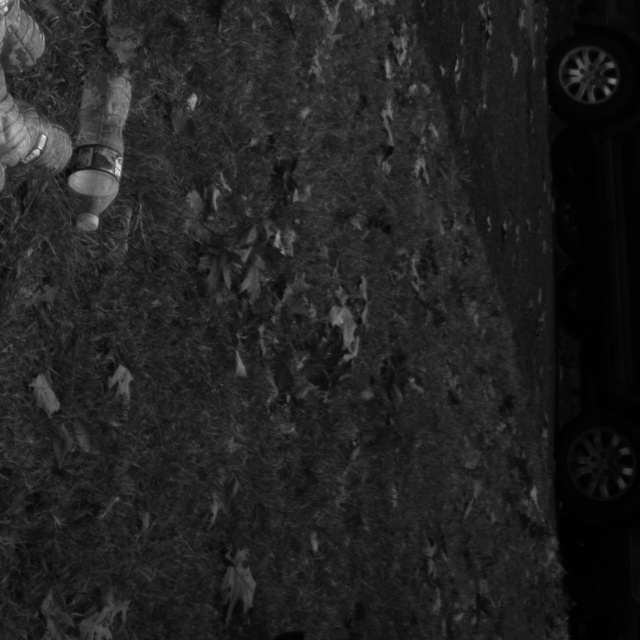bottle: (39, 43, 150, 250), (0, 72, 93, 181)
